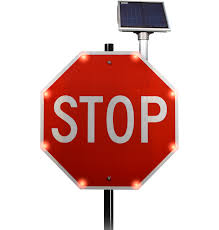stop sign: (39, 51, 178, 190)
